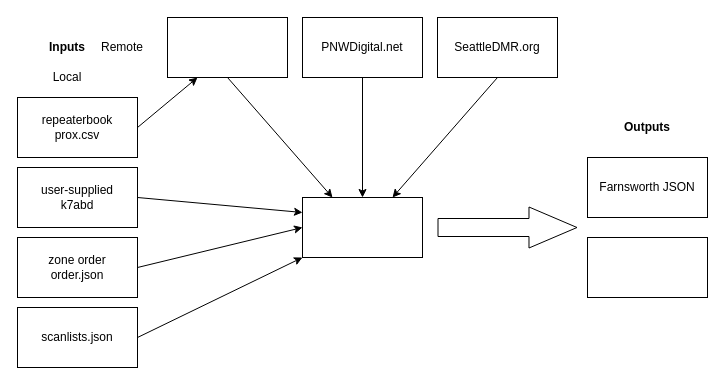
This 725x385 diagram has some shape labels left out. The centre of each missing label's shape, as x and y in pixels:
dzcb: the point at 362,227
GB3GF CSV: the point at 647,267
Repeaterbook.com: the point at 227,47
